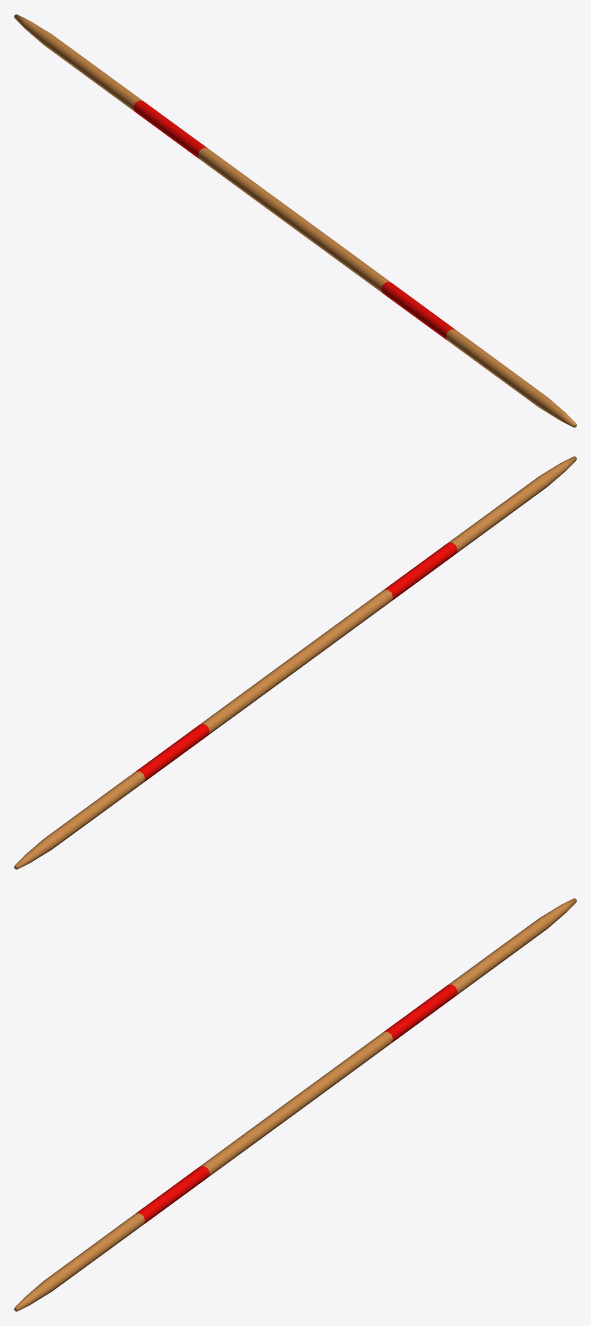
The model's file is SM_Mikado_Kuli.fbx.
3 views of the same model, one above another, from view 1: azimuth 30°, elevation 25°; view 2: azimuth 150°, elevation 25°; view 3: azimuth 330°, elevation 25° (orthographic).
Parts seen in each view (by area): view 1: Mikado_Kuli; view 2: Mikado_Kuli; view 3: Mikado_Kuli.
Boxes of the visible parts, box(x1,y1,x2,y2) form: Mikado_Kuli: box(14, 14, 576, 427); Mikado_Kuli: box(14, 456, 576, 869); Mikado_Kuli: box(14, 898, 576, 1311).
Bounding box in the file's own units: 0.3673 × 0.3673 × 29.26.
